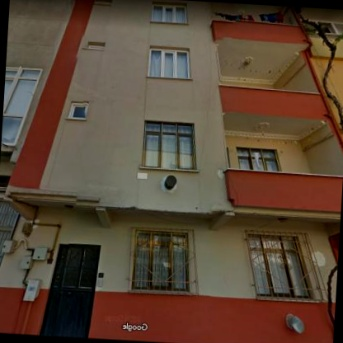door: (40, 243, 100, 338), (0, 201, 18, 283)
